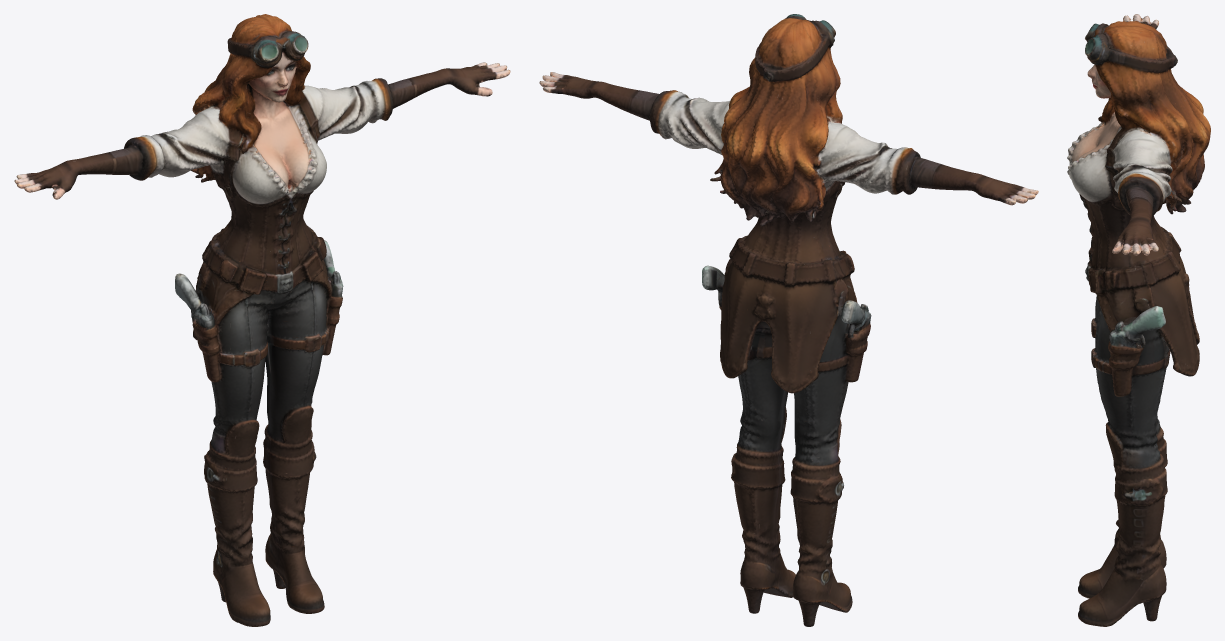
The model's file is Steampunk_Sally_01.fbx.
3 renders of one model, left to right at view 1: azimuth 30°, elevation 25°; view 2: azimuth 150°, elevation 25°; view 3: azimuth 270°, elevation 25°, orthographic.
Parts seen in each view (by area): view 1: output; view 2: output; view 3: output.
Boxes of the visible parts, x1,y1,x2,y2 form: output: [14, 14, 510, 626]; output: [539, 14, 1038, 626]; output: [1067, 14, 1210, 626].
Bounding box in the file's own units: 168 × 191 × 42.97.
1 material, 1 textured.
